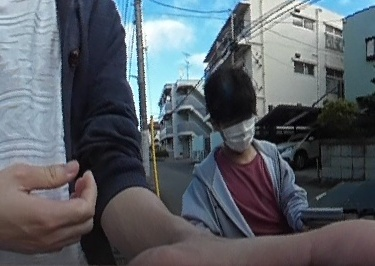person: (183, 64, 318, 237)
